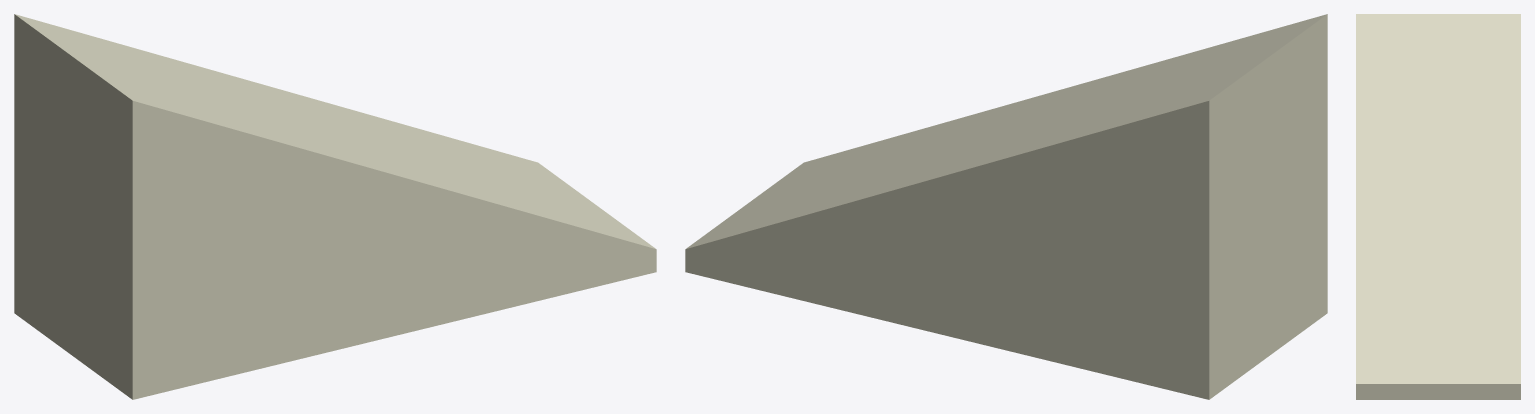
The model's file is reference_ship_collision.fbx.
3 renders of one model, left to right at view 1: azimuth 30°, elevation 25°; view 2: azimuth 150°, elevation 25°; view 3: azimuth 270°, elevation 25°, orthographic. The views are drawn at different scales.
Parts seen in each view (by area): view 1: Cargo_ramp; view 2: Cargo_ramp; view 3: Cargo_ramp.
Part boxes in pixels (<box>): Cargo_ramp: <box>14,14,656,399</box>; Cargo_ramp: <box>685,14,1327,399</box>; Cargo_ramp: <box>1356,14,1520,399</box>.
Size of what is drawn, in the model's own units: 4.8 by 2.62 by 1.88.
